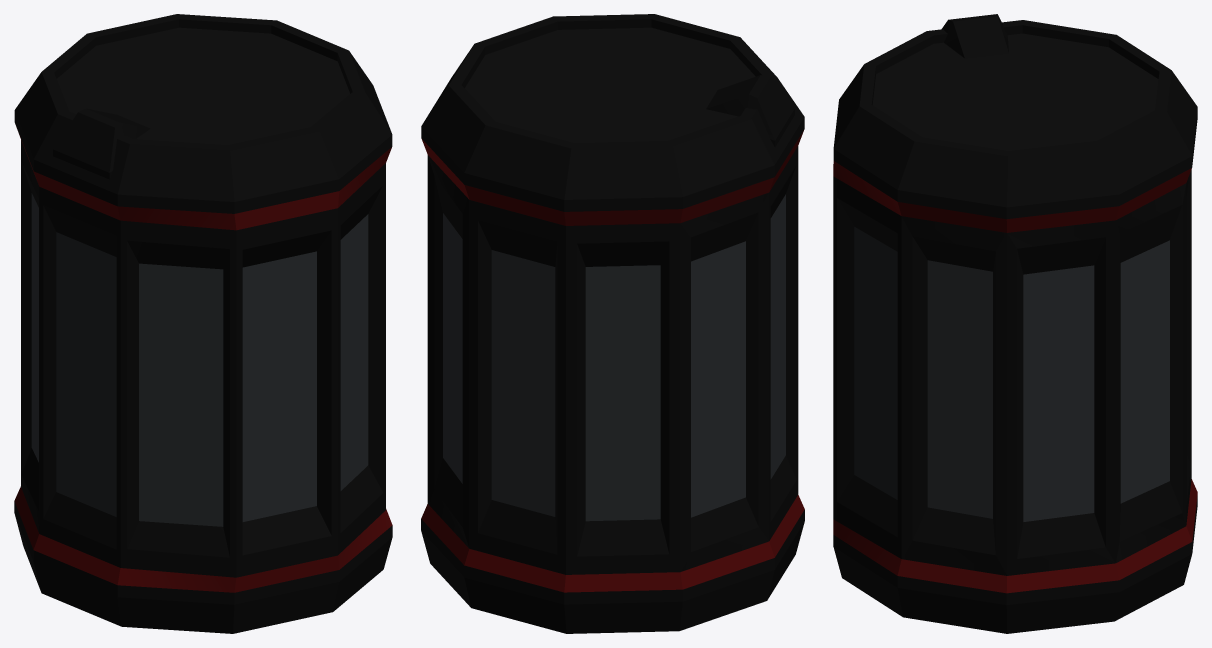
The model's file is Barrel.fbx.
3 renders of one model, left to right at view 1: azimuth 30°, elevation 25°; view 2: azimuth 150°, elevation 25°; view 3: azimuth 270°, elevation 25°, orthographic.
Parts seen in each view (by area): view 1: Barrel; view 2: Barrel; view 3: Barrel.
Part boxes in pixels (x1,y1,x2,y2): Barrel: [14, 14, 392, 633]; Barrel: [421, 14, 804, 633]; Barrel: [833, 14, 1197, 633].
Bounding box in the file's own units: 1.12 × 1.58 × 1.08.
